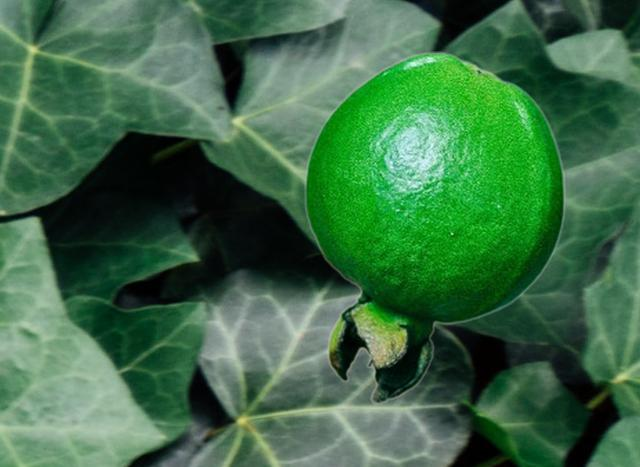guava: (303, 51, 565, 403)
